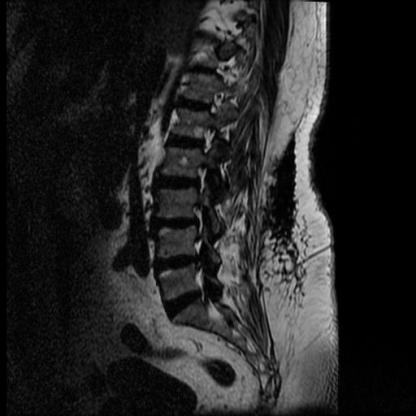Degenerative Disc Diseaserotation: (157, 253, 199, 273)
Disc Bulgerotation: (164, 291, 203, 314), (157, 253, 199, 272), (160, 174, 201, 192), (157, 215, 199, 231), (168, 135, 204, 153)
